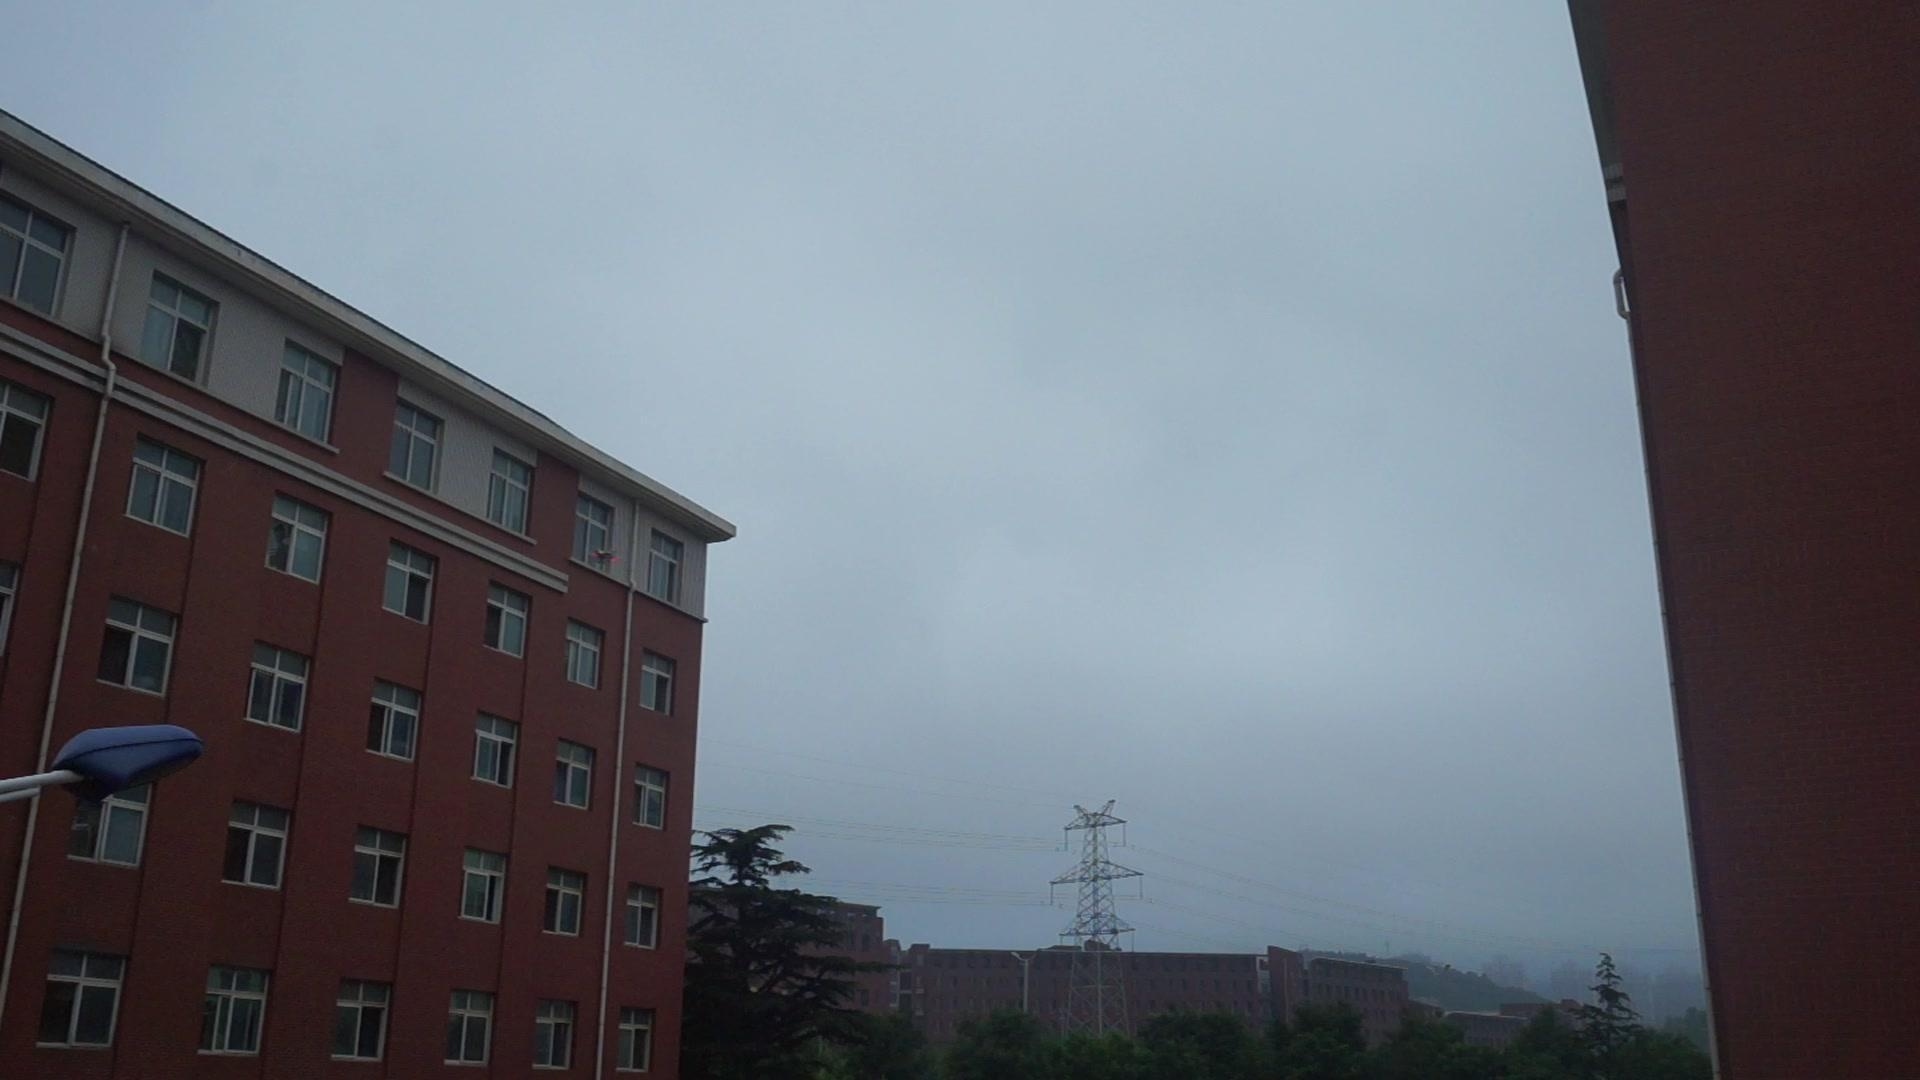UAV: (591, 550, 622, 564)
